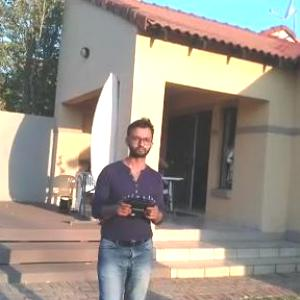follow: (92, 117, 166, 299)
